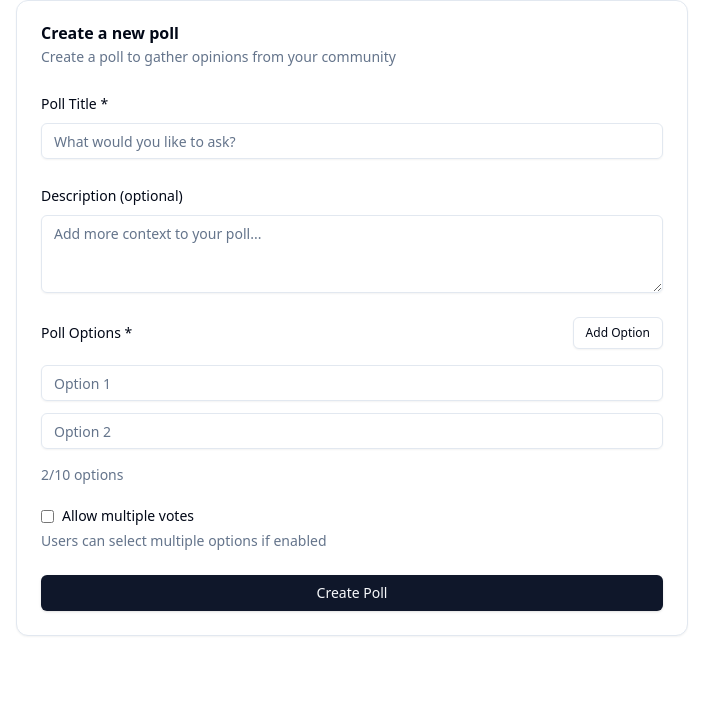
Test: CreatePollForm › Poll Options Management › adds new option when Add Option button is clicked
What coordinates should you click on to do the following:
click the button "Add Option"
I would click on:
 (618, 333)
Its box is top-left (573, 317), bottom-right (663, 349).
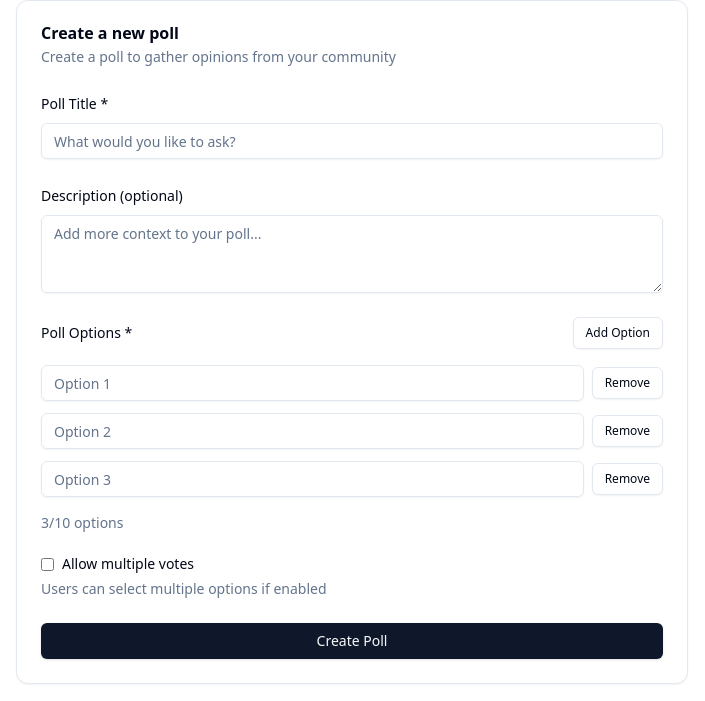
Expected: the number of fields with placeholder "Option 1" is 3, top-left (41, 365), bottom-right (584, 401); top-left (41, 413), bottom-right (584, 449); top-left (41, 461), bottom-right (584, 497)
